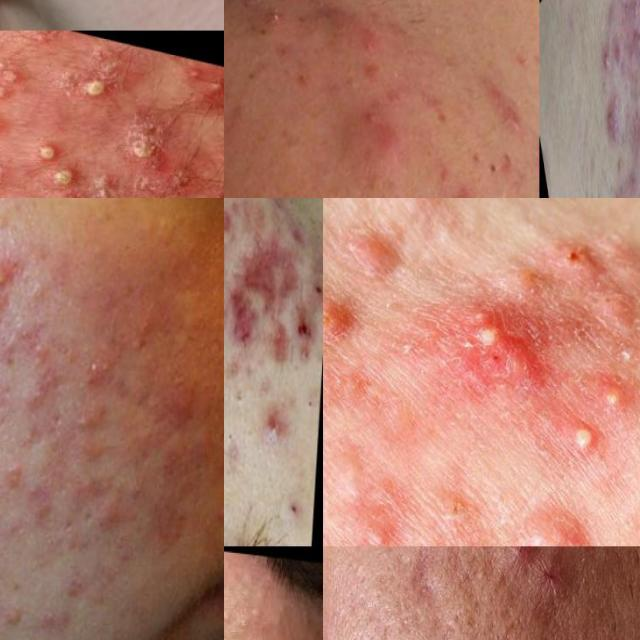acne_scars: (246, 217, 296, 309), (404, 546, 446, 608), (268, 304, 298, 381), (224, 283, 255, 354)
comedone: (76, 350, 108, 394), (228, 362, 259, 407), (224, 412, 249, 463), (299, 375, 316, 431), (247, 182, 296, 198), (247, 596, 269, 622), (262, 631, 291, 640)
cystic: (330, 223, 399, 296), (509, 501, 605, 546), (496, 546, 534, 576)
folliculitis: (59, 63, 126, 112), (0, 52, 45, 111), (41, 159, 87, 196), (26, 133, 66, 168), (0, 100, 17, 144)
papule: (508, 546, 606, 640), (331, 108, 413, 192), (436, 164, 489, 198), (612, 34, 626, 74)
pustule: (246, 0, 292, 45), (189, 65, 224, 107), (566, 418, 602, 458), (595, 376, 629, 414), (0, 254, 25, 289)
sebo-crystan-conglo: (442, 304, 558, 408), (108, 100, 187, 178), (602, 77, 626, 152), (621, 0, 640, 66), (598, 41, 612, 78)
